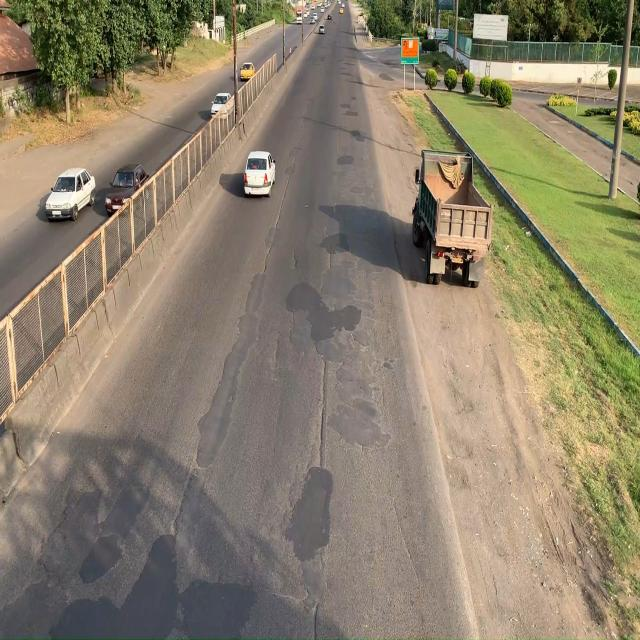Truck: (411, 148, 494, 288)
cars: (44, 164, 95, 222), (104, 163, 140, 210), (243, 153, 276, 197)
